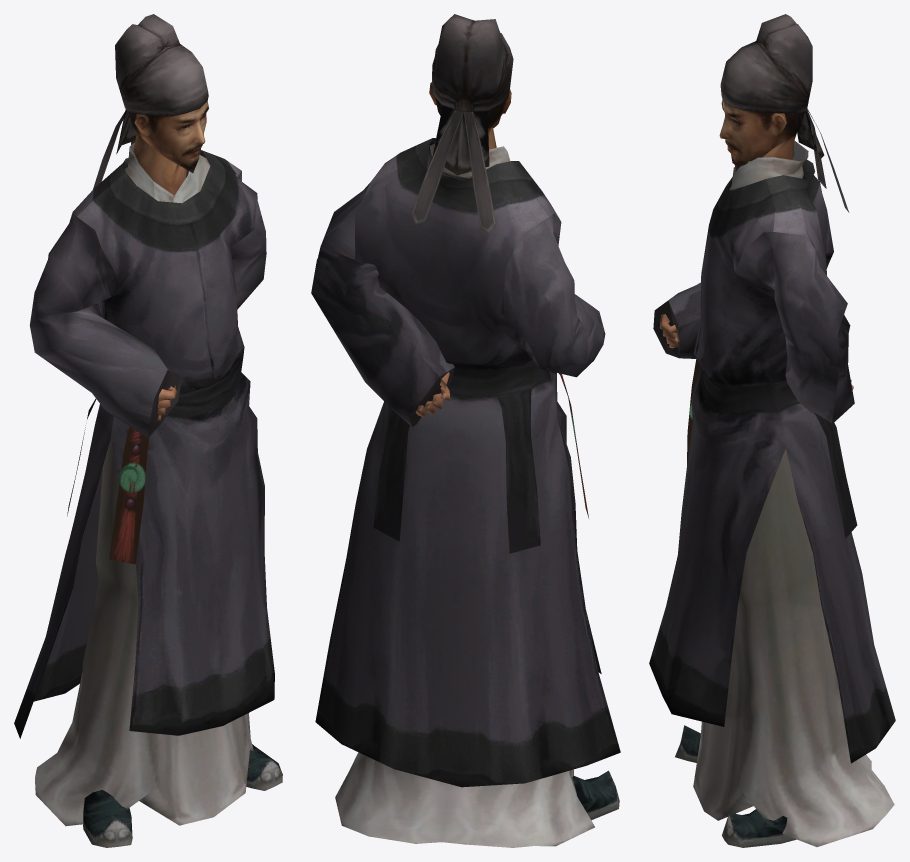
3 renders of one model, left to right at view 1: azimuth 30°, elevation 25°; view 2: azimuth 150°, elevation 25°; view 3: azimuth 270°, elevation 25°, orthographic. The views are drawn at different scales.
Parts seen in each view (by area): view 1: CG素材3D模型001; view 2: CG素材3D模型001; view 3: CG素材3D模型001.
Part boxes in pixels (x1,y1,x2,y2): CG素材3D模型001: [14, 14, 282, 847]; CG素材3D模型001: [311, 14, 620, 847]; CG素材3D模型001: [649, 14, 895, 847].
Size of the model in its own units: 636 by 1773 by 510.
1 material, 1 textured.
